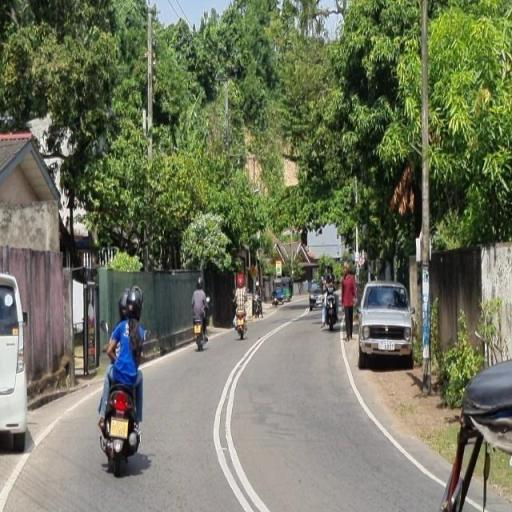double_white_line: (337, 330, 445, 488), (211, 321, 276, 510)
